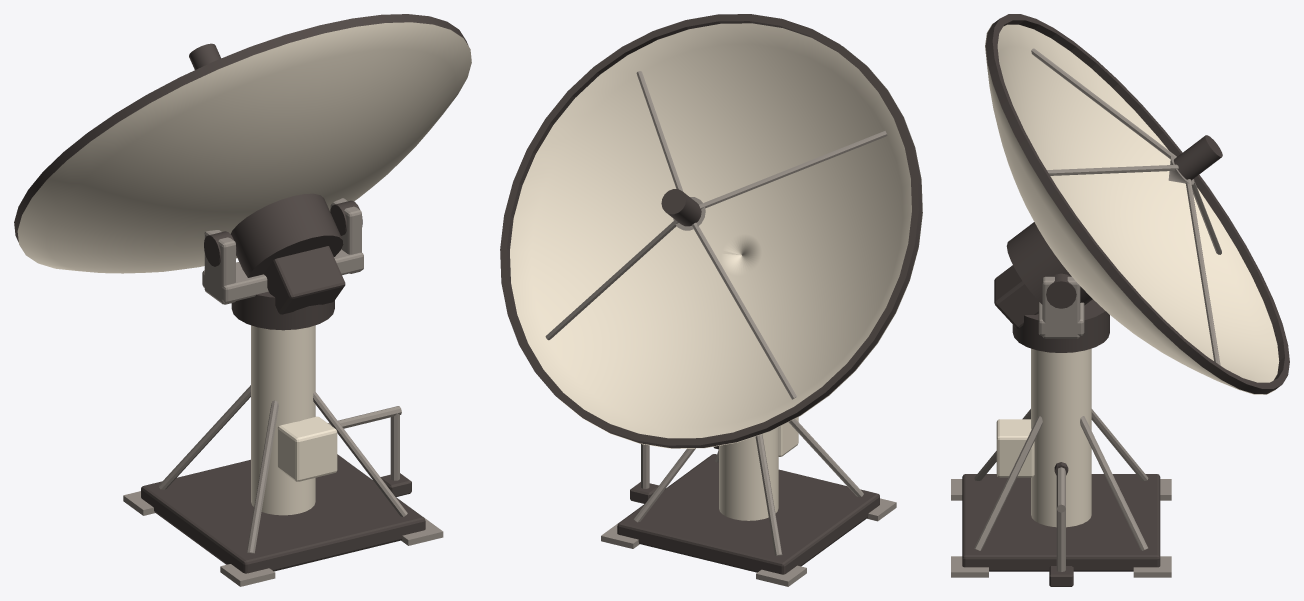
The model's file is building_dish.glb.
3 views of the same model, side by side, from view 1: azimuth 30°, elevation 25°; view 2: azimuth 150°, elevation 25°; view 3: azimuth 270°, elevation 25° (orthographic). The views are drawn at different scales.
Parts seen in each view (by area): view 1: dish, mount-col, detail-col; view 2: dish, mount-col, detail-col; view 3: dish, mount-col, detail-col, port_1_box-col.
Part boxes in pixels (x1,y1,x2,y2): dish: [14, 14, 471, 314]; mount-col: [123, 198, 443, 586]; detail-col: [277, 406, 401, 481]; dish: [500, 14, 922, 448]; mount-col: [601, 418, 896, 586]; detail-col: [641, 417, 798, 488]; dish: [985, 14, 1289, 394]; mount-col: [951, 273, 1171, 577]; detail-col: [996, 419, 1068, 571]; port_1_box-col: [1049, 566, 1073, 586].
Bounding box in the file's own units: 3.04 × 3.56 × 2.23.
